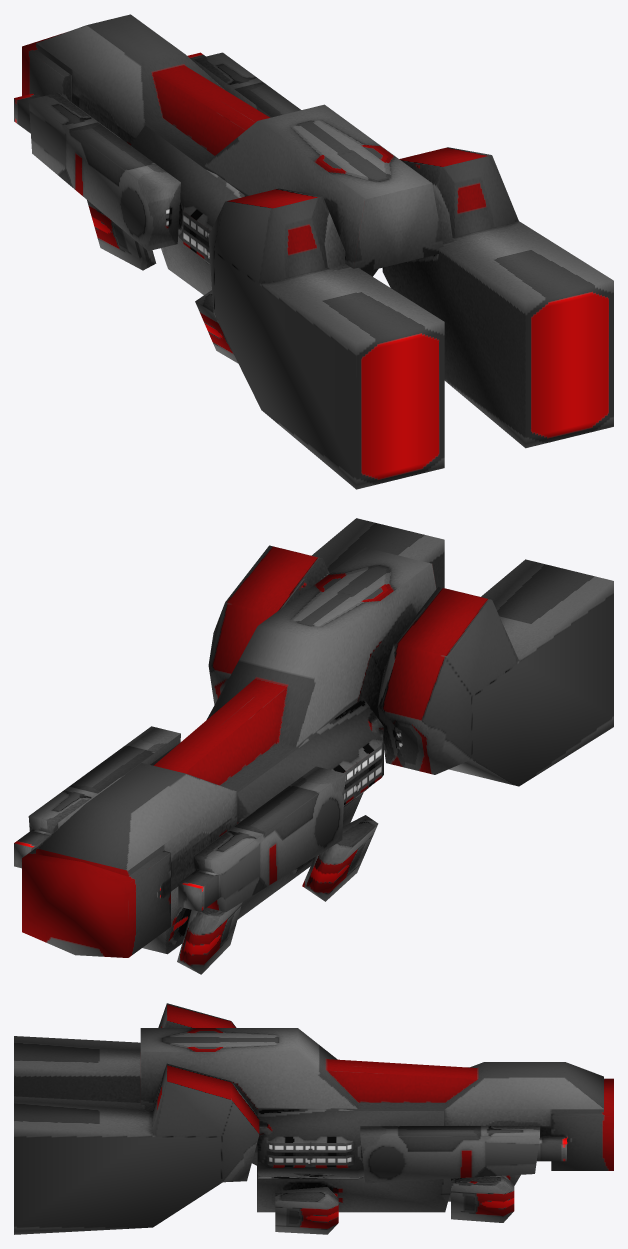
File: RSCruiser.fbx
3 views of the same model, one above another, from view 1: azimuth 30°, elevation 25°; view 2: azimuth 150°, elevation 25°; view 3: azimuth 270°, elevation 25° (orthographic). The views are drawn at different scales.
Visible parts, largest first — view 1: RSFrigateMod; view 2: RSFrigateMod; view 3: RSFrigateMod.
Part boxes in pixels (x1,y1,x2,y2): RSFrigateMod: (14, 14, 613, 489); RSFrigateMod: (14, 518, 613, 974); RSFrigateMod: (14, 1003, 613, 1234).
Size of the model in its own units: 14.41 by 12.8 by 39.73.
1 material, 1 textured.
